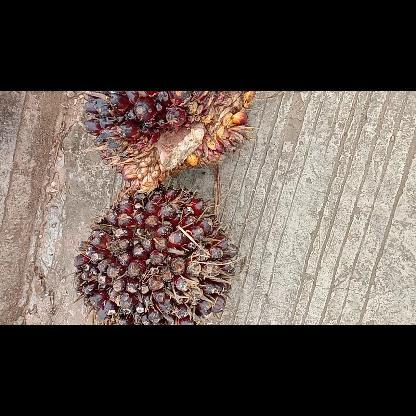TBS mentah: (72, 180, 240, 324), (78, 91, 258, 195)
